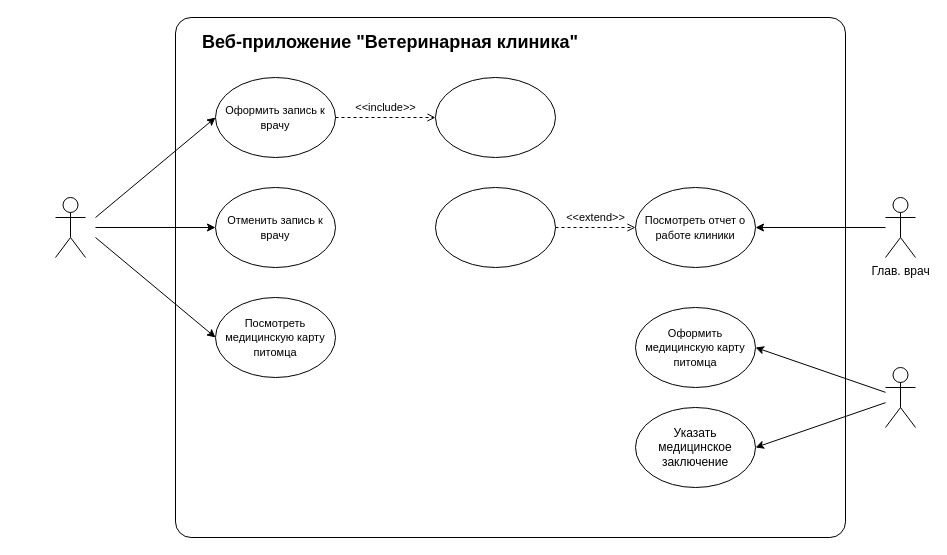
The diagram is 947 pixels wide and 555 high, and some of its shapes have lost their labels. Each missing label, with the box of its shape:
Ветеринар: (884, 366, 916, 428)
Владелец питомца: (54, 196, 86, 258)
Выбрать конкретного специалиста: (434, 76, 556, 158)
Выбрать срез: (434, 186, 556, 268)
